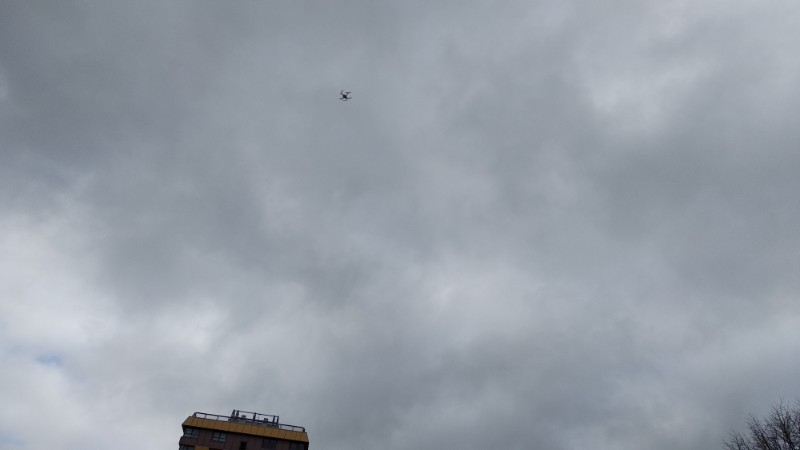drone: (339, 91, 352, 100)
